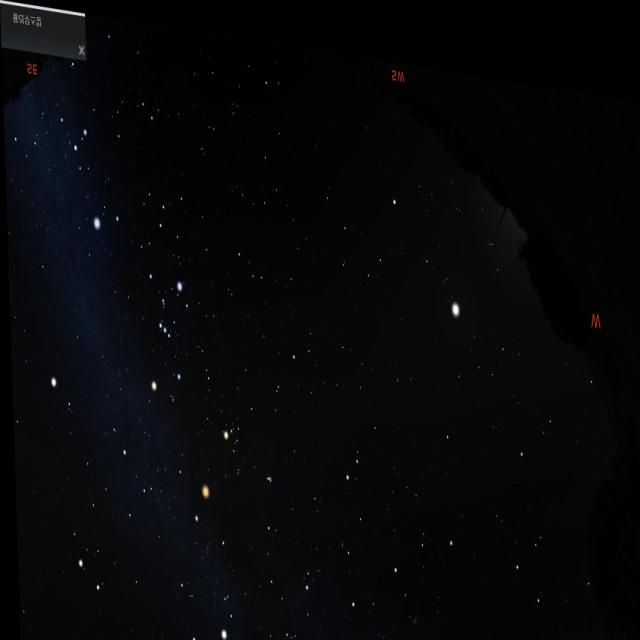canis_major: (70, 104, 125, 242)
canis_minor: (43, 358, 71, 414)
gemini: (70, 430, 161, 605)
orion: (141, 252, 188, 392)
pleiades: (264, 453, 274, 478)
taurus: (217, 384, 291, 501)
